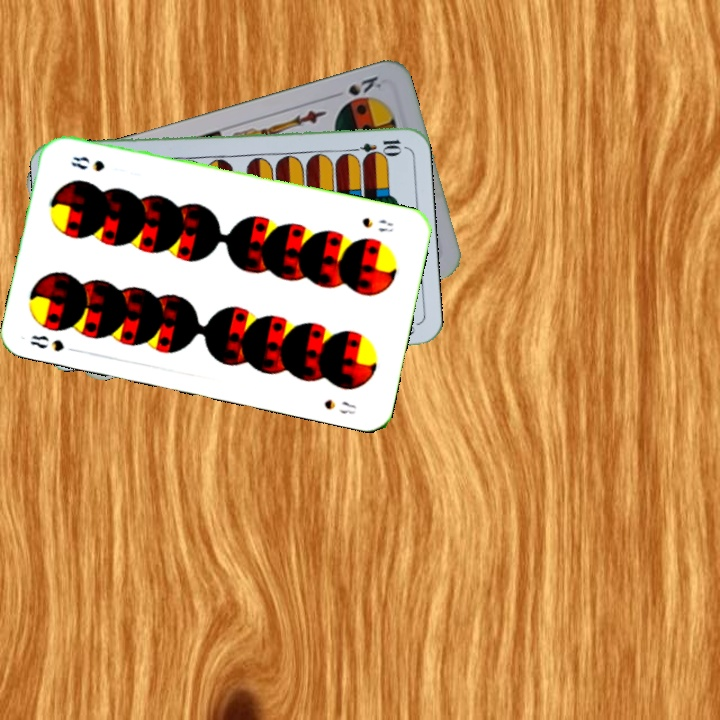E10: (345, 135, 404, 156)
S8: (26, 330, 82, 356), (358, 213, 396, 235)
SK: (327, 72, 385, 101)
